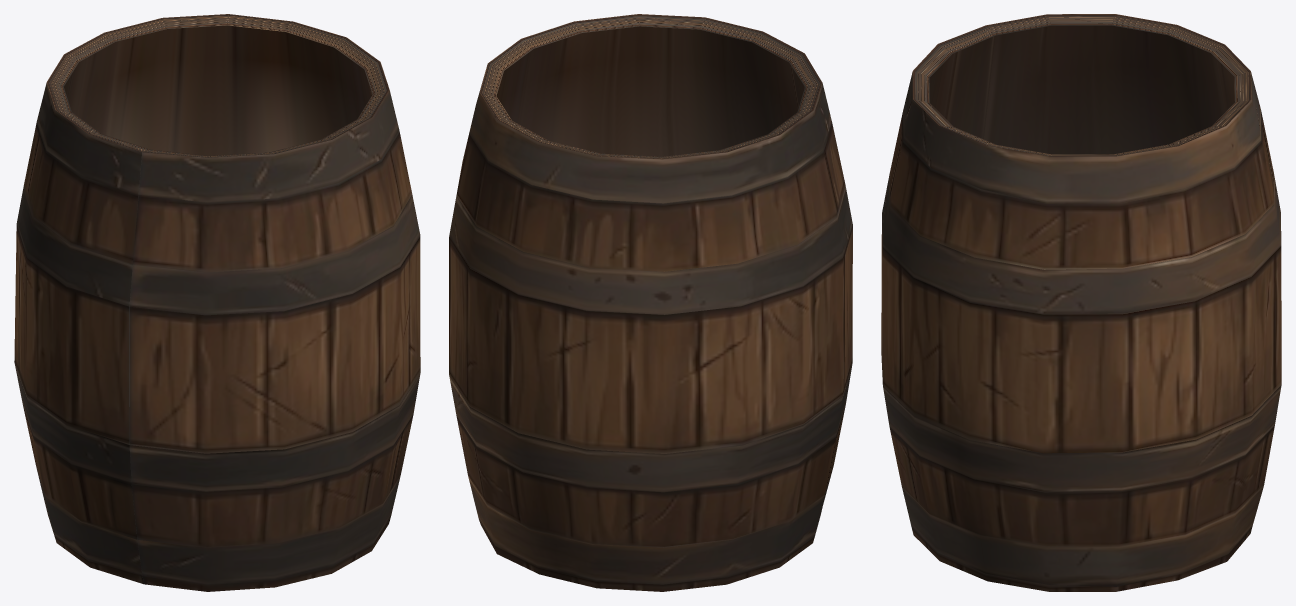
Rendered from Barril_Open.fbx.
3 views of the same model, side by side, from view 1: azimuth 30°, elevation 25°; view 2: azimuth 150°, elevation 25°; view 3: azimuth 270°, elevation 25° (orthographic).
Parts seen in each view (by area): view 1: barrel_low.014; view 2: barrel_low.014; view 3: barrel_low.014.
Boxes of the visible parts, <box> form: barrel_low.014: <box>14,14,420,591</box>; barrel_low.014: <box>449,14,852,591</box>; barrel_low.014: <box>881,14,1281,591</box>.
Size of the model in its own units: 64.89 by 78.01 by 64.68.
